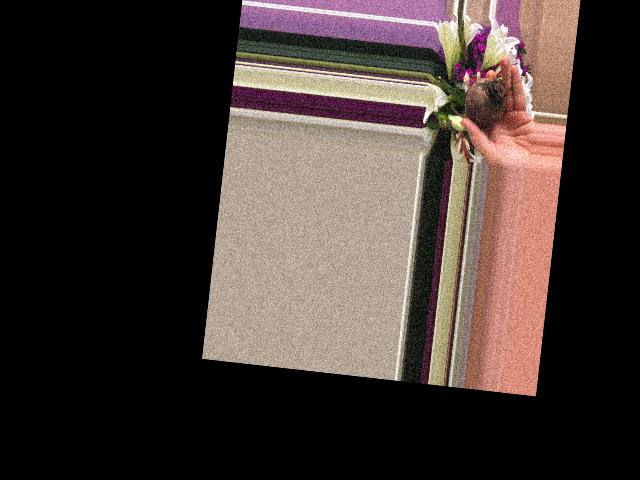beet: (450, 73, 508, 131)
